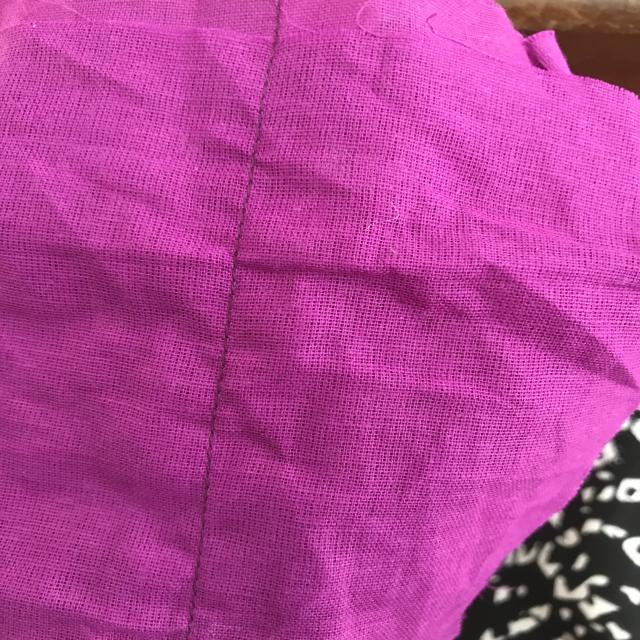good: (208, 277, 254, 397), (222, 157, 259, 244), (197, 447, 234, 528), (248, 58, 284, 130)
